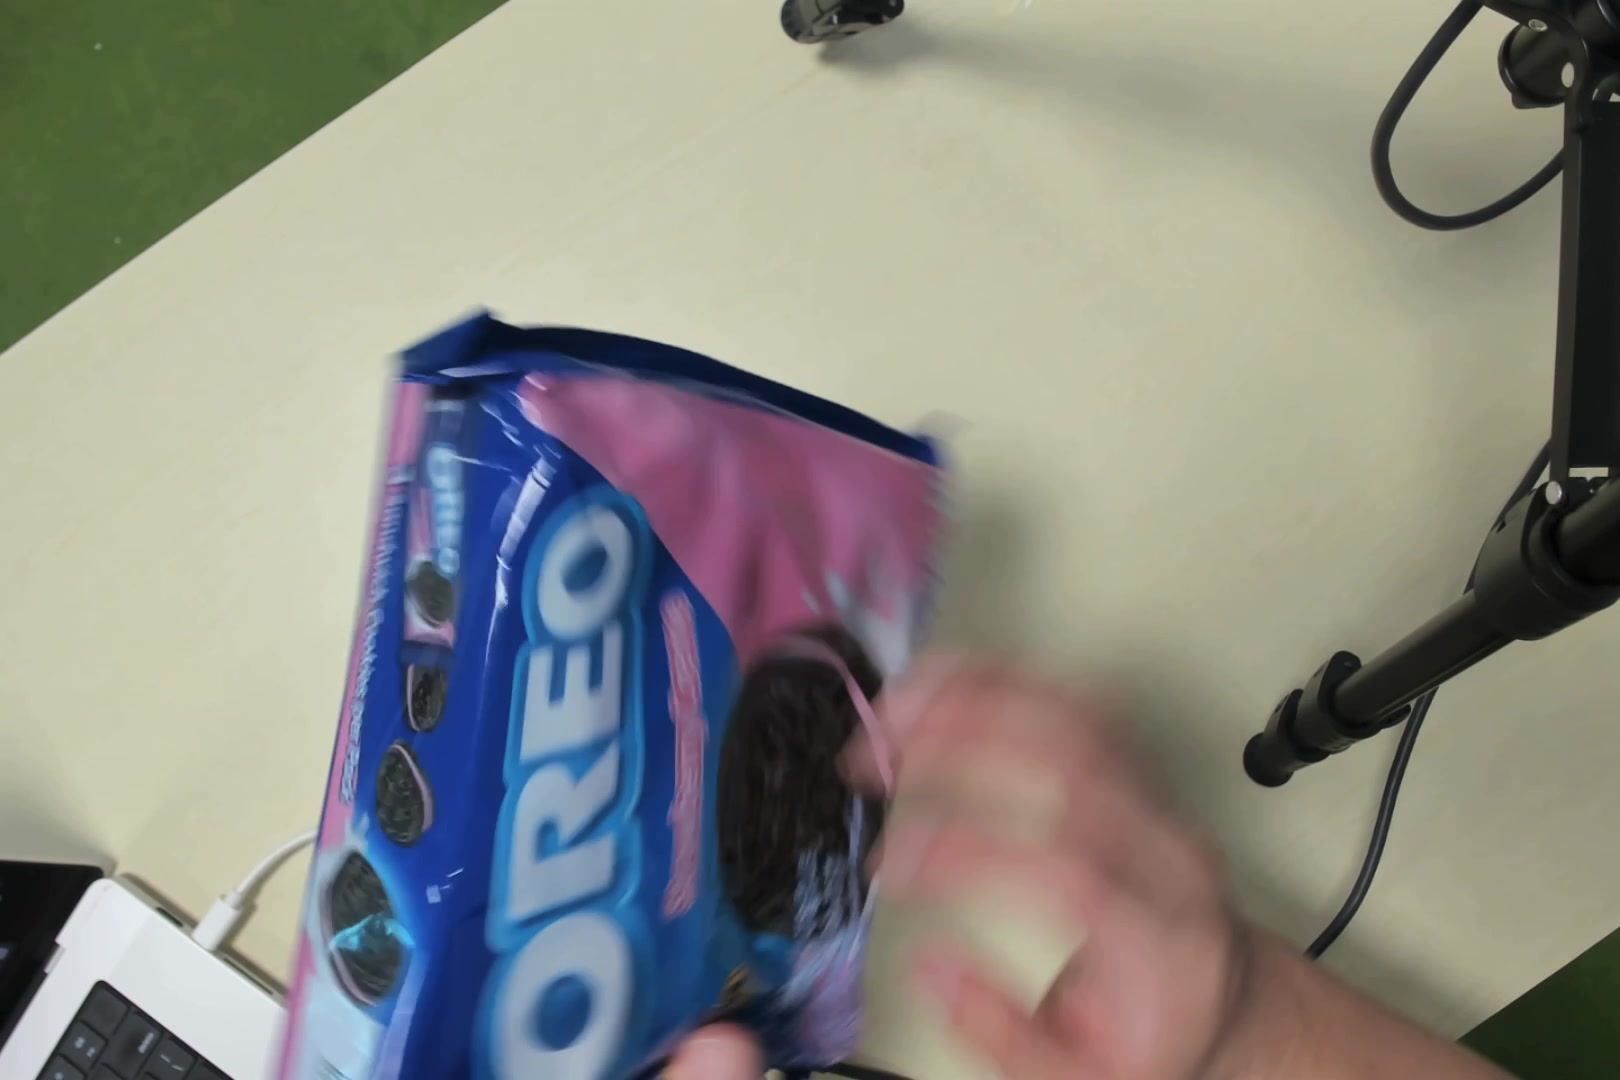SweetsChocolatesOthers_200-299g_Halal_NonHealthy: (333, 284, 884, 1044)
